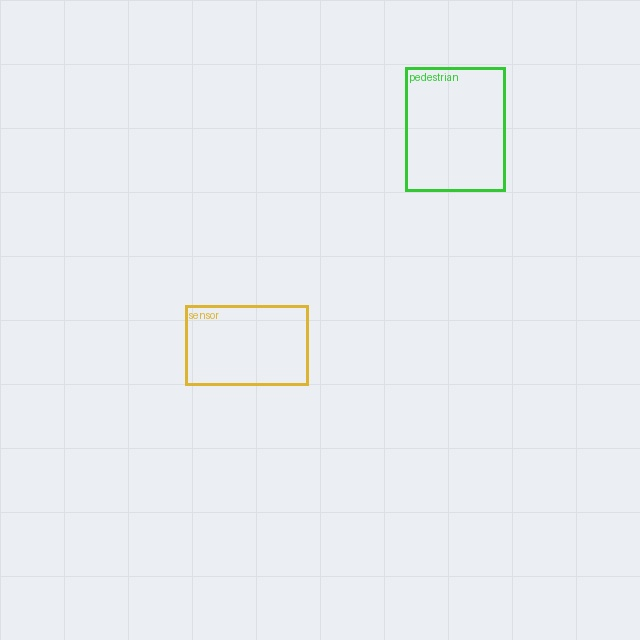pedestrian: (405, 67, 505, 191)
sensor: (185, 305, 308, 385)
